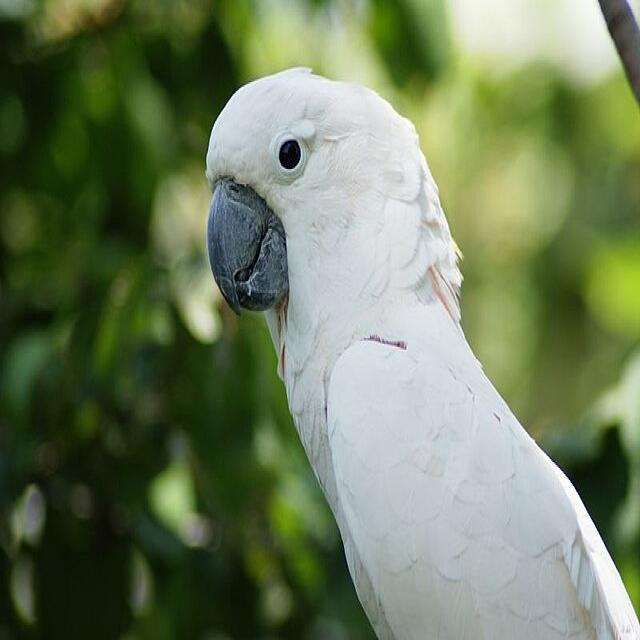Kakatua Putih: (179, 39, 640, 640)
